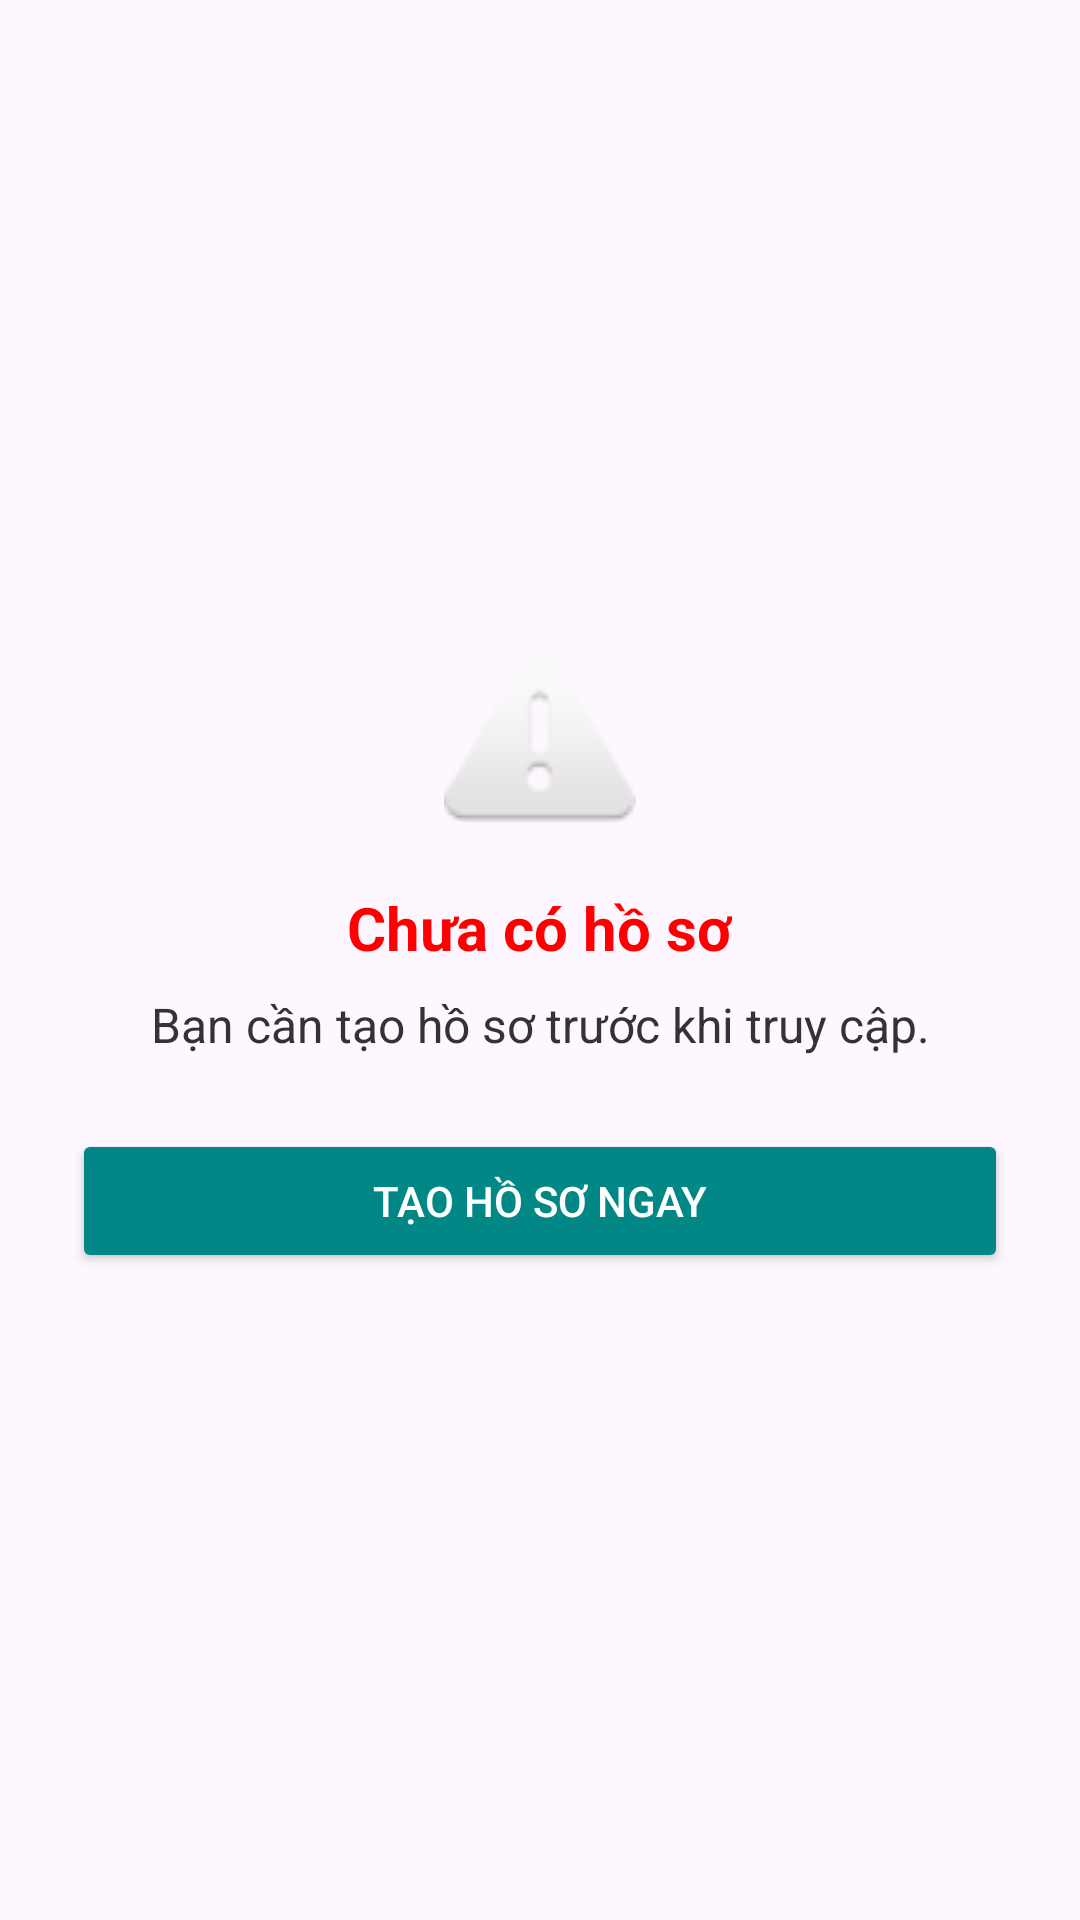

Where to tap for icons on this 1080w x 1920h app screen, as point (x, y):
Warning: point (540, 756)
